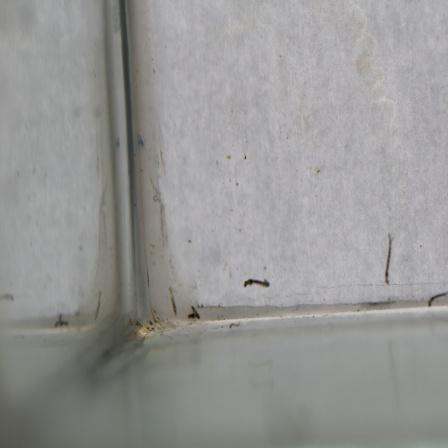Jentik-Nyamuk: (380, 233, 398, 286), (242, 274, 271, 296), (184, 304, 204, 326)
